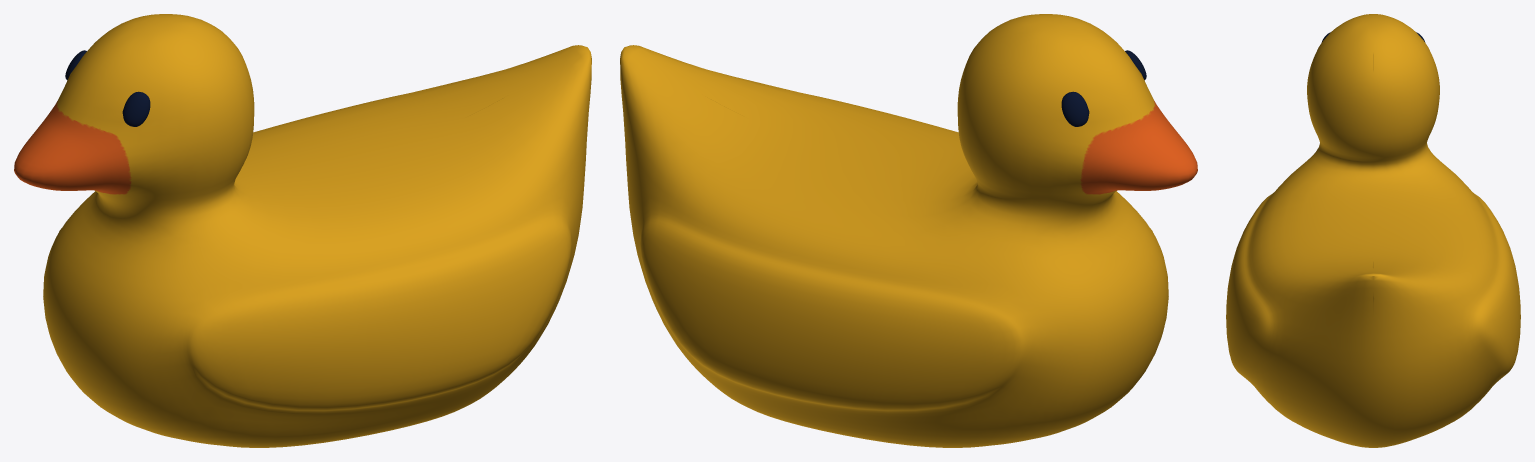
File: BathDuck.glb
3 views of the same model, side by side, from view 1: azimuth 30°, elevation 25°; view 2: azimuth 150°, elevation 25°; view 3: azimuth 270°, elevation 25° (orthographic). The views are drawn at different scales.
Visible parts, largest first — view 1: BathDuck.001; view 2: BathDuck.001; view 3: BathDuck.001.
Boxes of the visible parts, bbox=[...] form: BathDuck.001: bbox=[14, 14, 591, 447]; BathDuck.001: bbox=[620, 14, 1197, 447]; BathDuck.001: bbox=[1226, 14, 1520, 447].
Size of the model in its own units: 0.194 by 0.1325 by 0.1153.
Materials: 1 (1 with a texture image).
